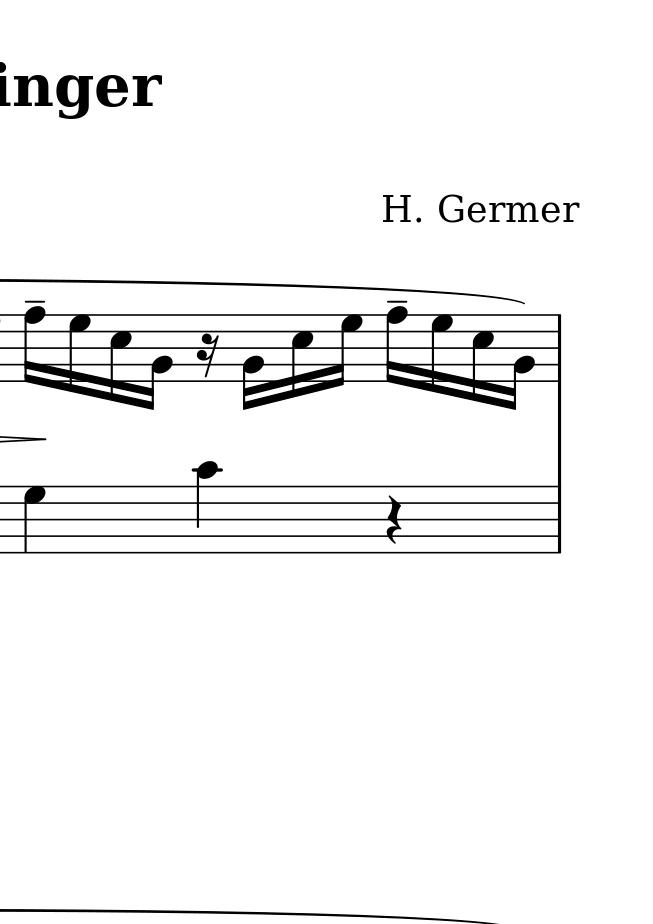16_2: (143, 312, 172, 412), (506, 312, 535, 412), (241, 312, 264, 411)
16_5: (470, 314, 496, 409), (108, 313, 133, 409), (289, 312, 314, 399)
16_7: (331, 314, 363, 388), (429, 310, 455, 399), (67, 311, 93, 397)
16_8: (22, 304, 47, 385), (384, 306, 408, 386)
4_10: (192, 458, 221, 558)
4_7: (23, 485, 47, 556)
Rests16: (196, 331, 220, 378)
Rests4: (384, 493, 405, 546)
Single_barline: (551, 487, 567, 552), (553, 315, 567, 382)
